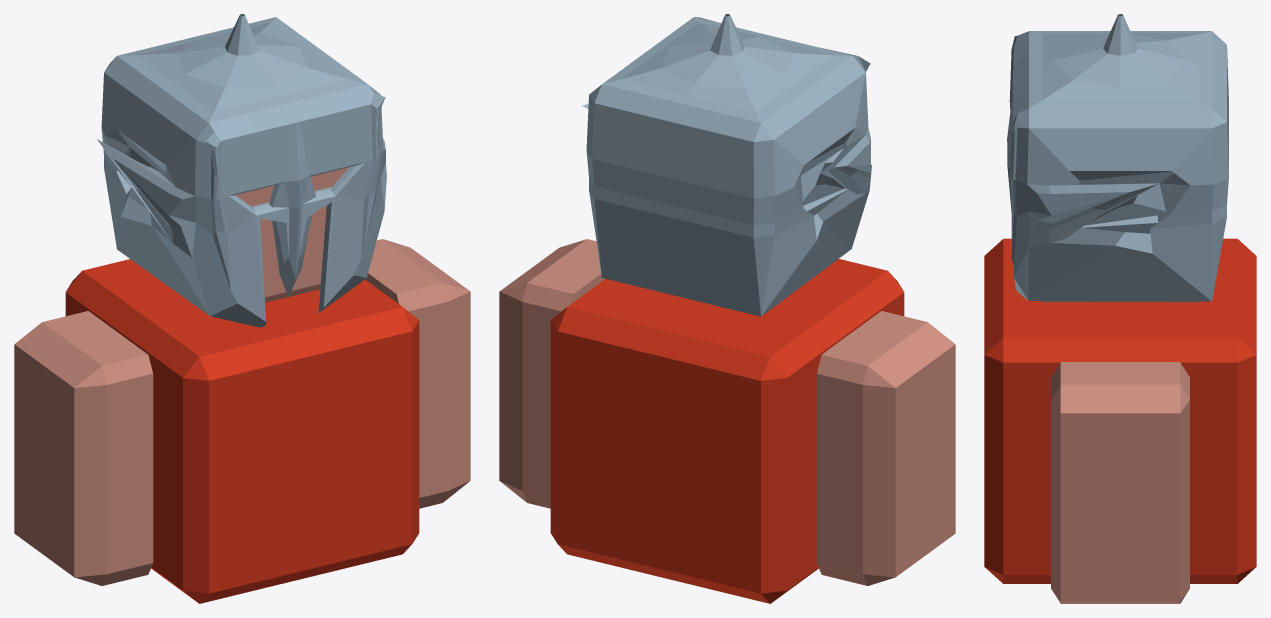
File: Knight.fbx
The picture shows the model from 3 angles, left to right: view 1: azimuth 30°, elevation 25°; view 2: azimuth 150°, elevation 25°; view 3: azimuth 270°, elevation 25°; orthographic projection.
Visible parts, largest first — view 1: Body, Helmet, ArmR, ArmL, Head; view 2: Body, Helmet, ArmR, ArmL; view 3: Helmet, Body, ArmL.
Boxes of the visible parts, x1,y1,x2,y2 form: Body: (65, 259, 419, 603); Helmet: (97, 14, 386, 327); ArmR: (14, 311, 153, 585); ArmL: (365, 239, 470, 508); Head: (235, 167, 349, 302); Body: (550, 259, 904, 603); Helmet: (581, 14, 871, 316); ArmR: (816, 311, 955, 585); ArmL: (499, 239, 605, 508); Helmet: (1007, 14, 1228, 301); Body: (984, 238, 1256, 583); ArmL: (1051, 362, 1189, 603).
Bounding box in the file's own units: 335 × 421 × 200.
